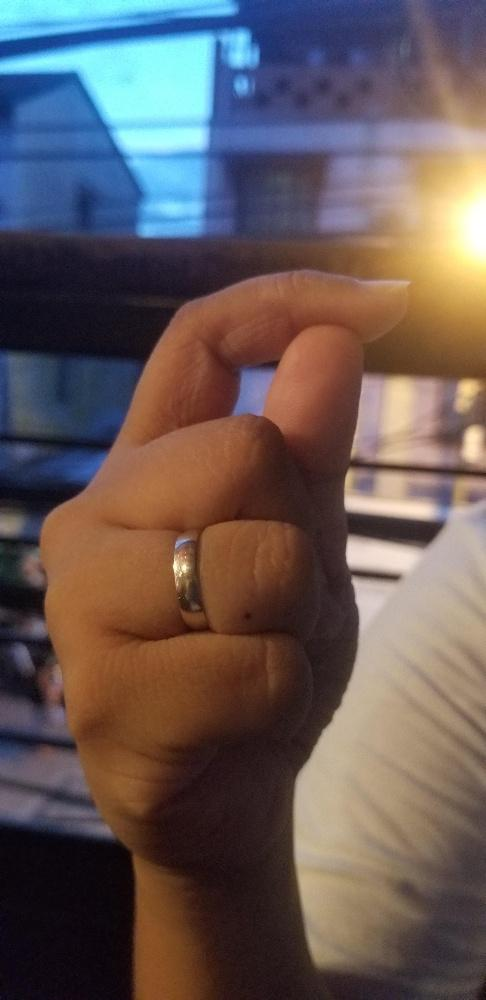t: (34, 268, 412, 871)
